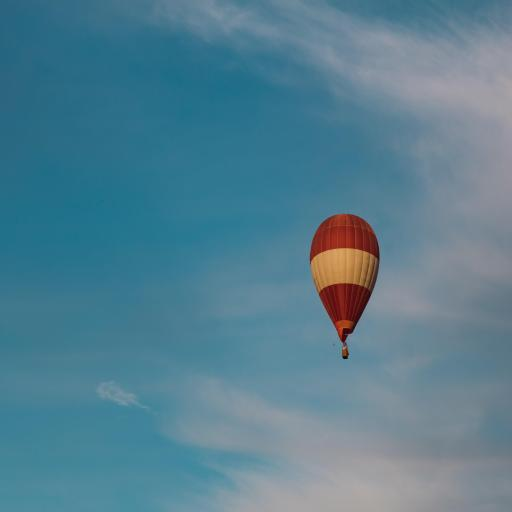hot air ballon: (310, 214, 380, 360)
